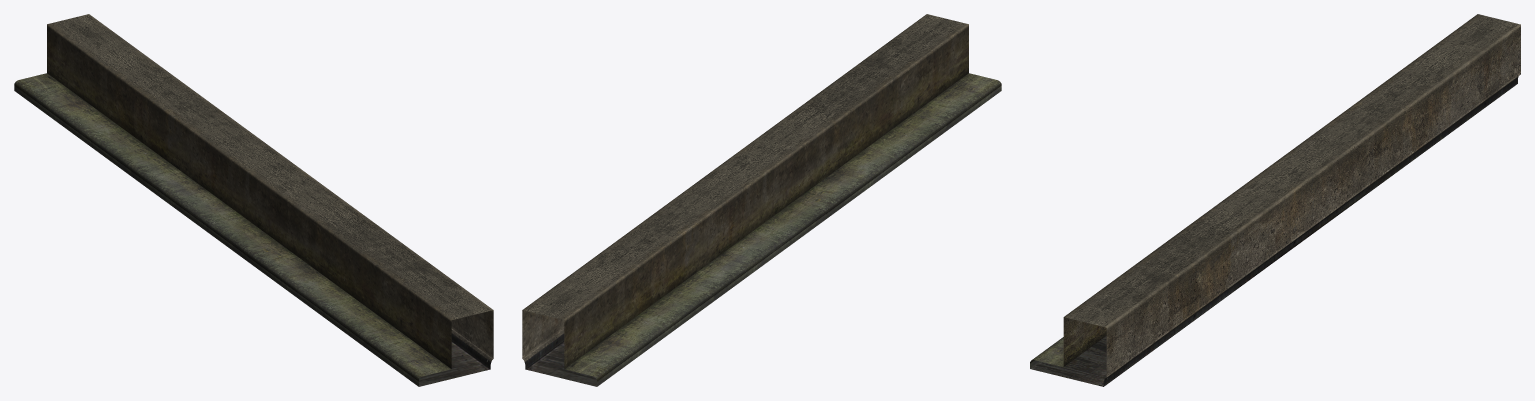
Rendered from downtown_walltrim_top_straight_256.fbx.
The picture shows the model from 3 angles, left to right: view 1: azimuth 30°, elevation 25°; view 2: azimuth 150°, elevation 25°; view 3: azimuth 330°, elevation 25°; orthographic projection. The views are drawn at different scales.
Visible parts, largest first — view 1: downtown_walltrim_top_straight_256; view 2: downtown_walltrim_top_straight_256; view 3: downtown_walltrim_top_straight_256.
Part boxes in pixels (x1,y1,x2,y2): downtown_walltrim_top_straight_256: (14, 14, 493, 386); downtown_walltrim_top_straight_256: (522, 14, 1001, 386); downtown_walltrim_top_straight_256: (1030, 14, 1520, 386).
Size of the model in its own units: 0.32 by 0.24 by 3.
